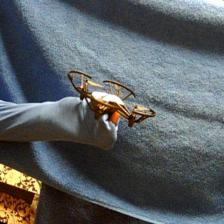drone: (69, 68, 157, 128)
